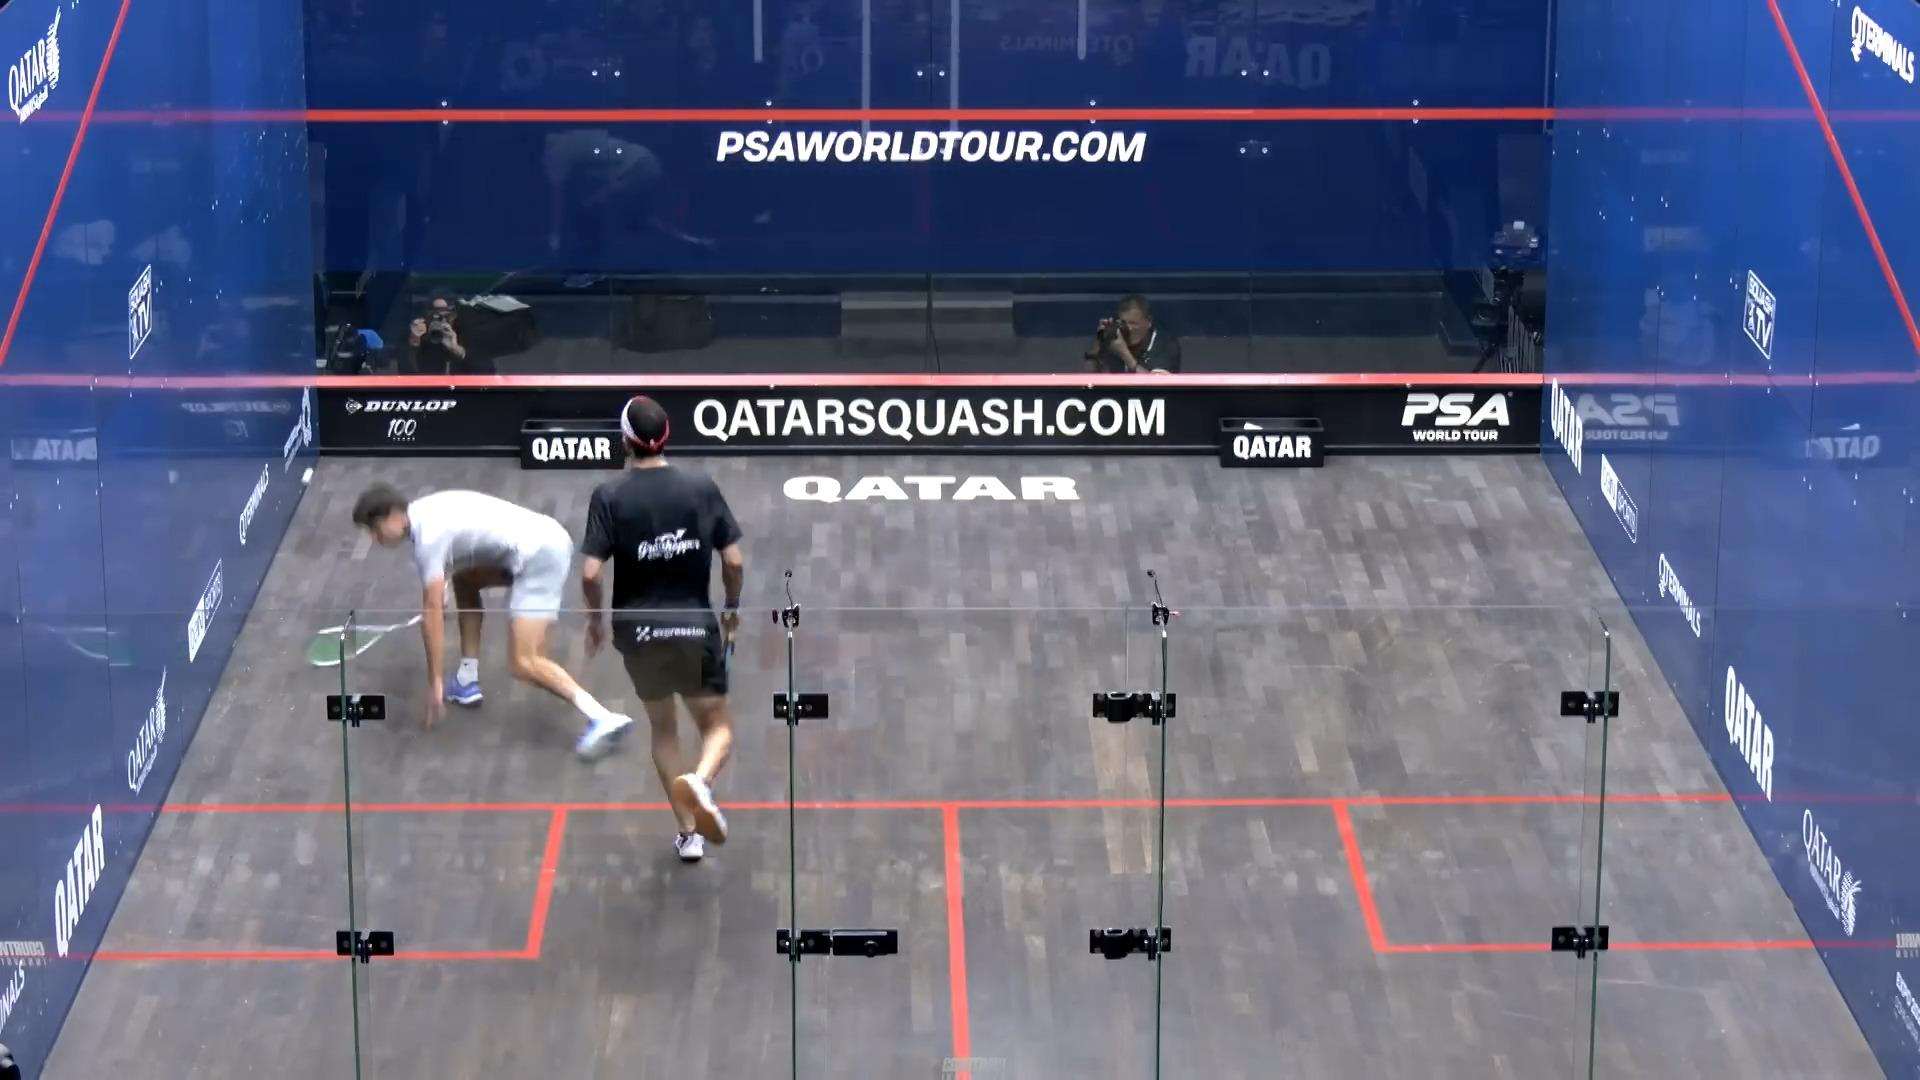Racket: (295, 609, 427, 686)
